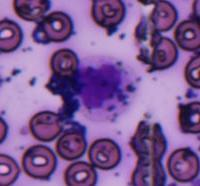M: (69, 54, 141, 120)
